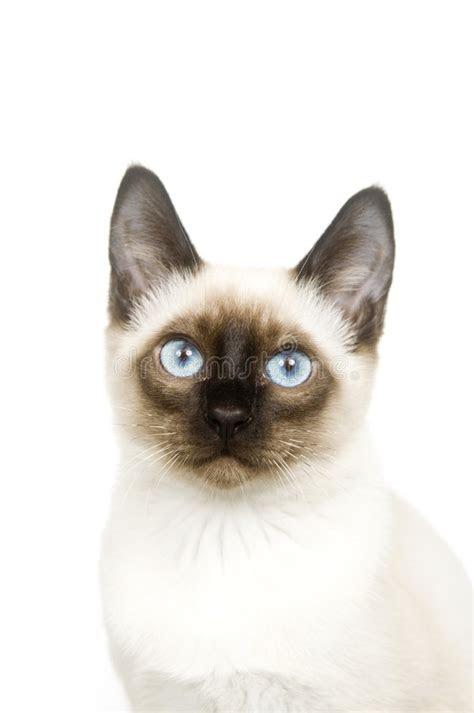siamese: (97, 157, 413, 510)
